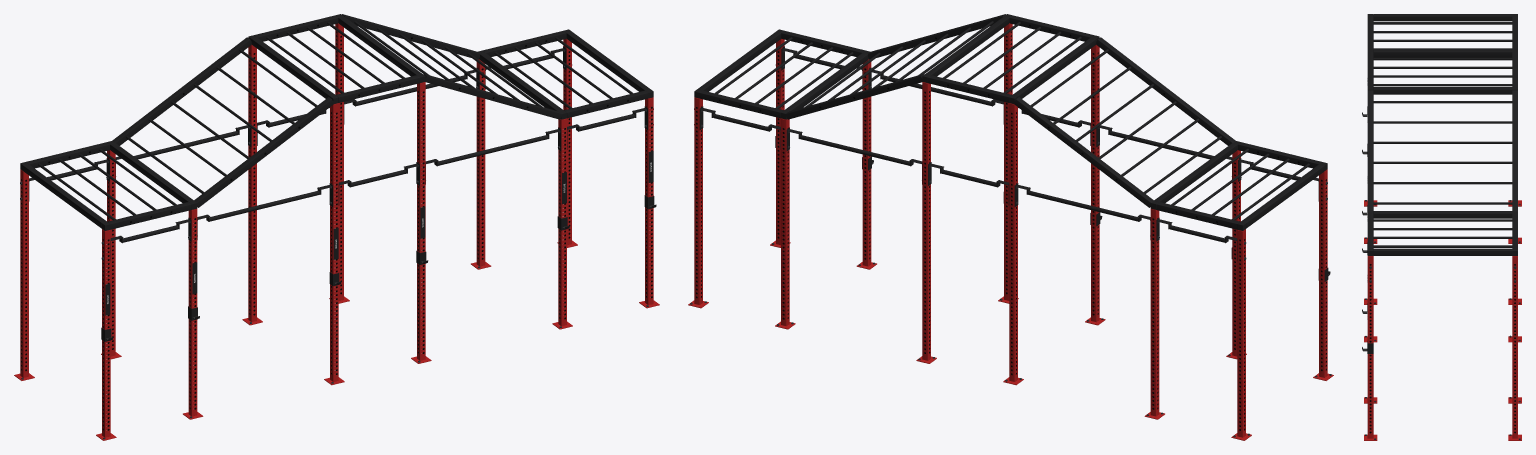
The model's file is rogue-monster-lite-monkey-rig-2-0_v001.glb.
The picture shows the model from 3 angles, left to right: view 1: azimuth 30°, elevation 25°; view 2: azimuth 150°, elevation 25°; view 3: azimuth 270°, elevation 25°; orthographic projection. The views are drawn at different scales.
Parts seen in each view (by area): view 1: rogue-monster-lite-monkey-rig-2-0_frame, rogue-monster-lite-monkey-rig-2-0_black.002, rogue-monster-lite-monkey-rig-2-0_black.003, rogue-monster-lite-monkey-rig-2-0_hole, rogue-monster-lite-monkey-rig-2-0_black; view 2: rogue-monster-lite-monkey-rig-2-0_frame, rogue-monster-lite-monkey-rig-2-0_black.002, rogue-monster-lite-monkey-rig-2-0_black.003, rogue-monster-lite-monkey-rig-2-0_hole, rogue-monster-lite-monkey-rig-2-0_black; view 3: rogue-monster-lite-monkey-rig-2-0_black.002, rogue-monster-lite-monkey-rig-2-0_black.003, rogue-monster-lite-monkey-rig-2-0_frame, rogue-monster-lite-monkey-rig-2-0_hole, rogue-monster-lite-monkey-rig-2-0_black.001, rogue-monster-lite-monkey-rig-2-0_black.
Boxes of the visible parts, bbox=[...] form: rogue-monster-lite-monkey-rig-2-0_frame: bbox=[14, 23, 659, 440]; rogue-monster-lite-monkey-rig-2-0_black.002: bbox=[23, 14, 650, 229]; rogue-monster-lite-monkey-rig-2-0_black.003: bbox=[38, 21, 634, 242]; rogue-monster-lite-monkey-rig-2-0_hole: bbox=[21, 24, 652, 430]; rogue-monster-lite-monkey-rig-2-0_black: bbox=[29, 46, 656, 341]; rogue-monster-lite-monkey-rig-2-0_frame: bbox=[688, 23, 1333, 440]; rogue-monster-lite-monkey-rig-2-0_black.002: bbox=[697, 14, 1324, 229]; rogue-monster-lite-monkey-rig-2-0_black.003: bbox=[713, 21, 1309, 242]; rogue-monster-lite-monkey-rig-2-0_hole: bbox=[696, 24, 1326, 430]; rogue-monster-lite-monkey-rig-2-0_black: bbox=[699, 46, 1330, 281]; rogue-monster-lite-monkey-rig-2-0_black.002: bbox=[1367, 14, 1517, 255]; rogue-monster-lite-monkey-rig-2-0_black.003: bbox=[1373, 22, 1512, 247]; rogue-monster-lite-monkey-rig-2-0_frame: bbox=[1364, 200, 1521, 440]; rogue-monster-lite-monkey-rig-2-0_hole: bbox=[1369, 264, 1515, 433]; rogue-monster-lite-monkey-rig-2-0_black.001: bbox=[1367, 14, 1517, 255]; rogue-monster-lite-monkey-rig-2-0_black: bbox=[1362, 106, 1373, 353].
Bounding box in the file's own units: 7.49 × 3.66 × 2.11.
